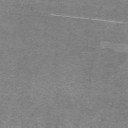finishing roll printing: (48, 14, 125, 24)
